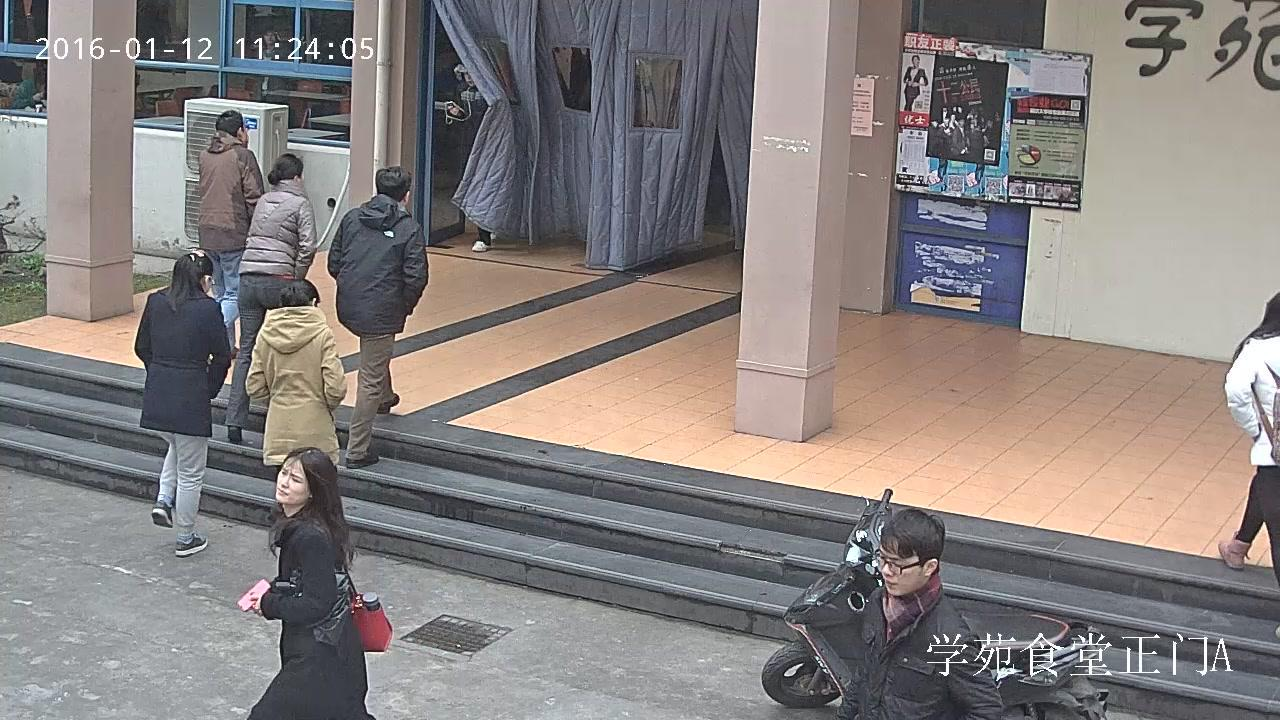person: (236, 445, 392, 720), (837, 507, 1004, 720), (328, 165, 428, 467), (135, 249, 232, 557), (225, 152, 317, 445), (1218, 289, 1280, 639), (245, 279, 348, 481), (197, 110, 265, 367), (442, 64, 494, 253), (255, 28, 290, 102), (11, 67, 47, 110), (902, 53, 927, 112)
